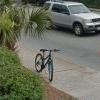Bicycle: (31, 40, 61, 86)
